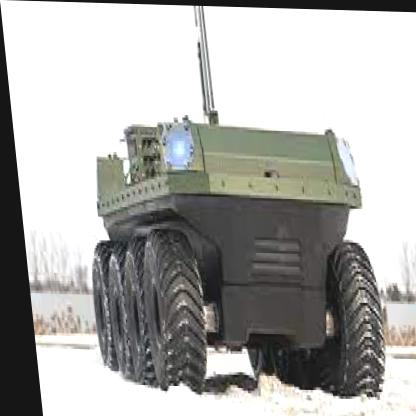UGV: (71, 111, 383, 398)
